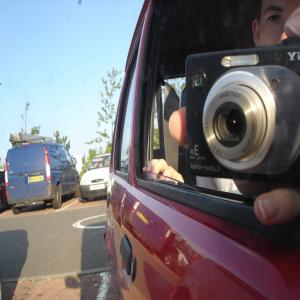Vehicle-registration-plate: (91, 184, 107, 192), (30, 175, 45, 182)
